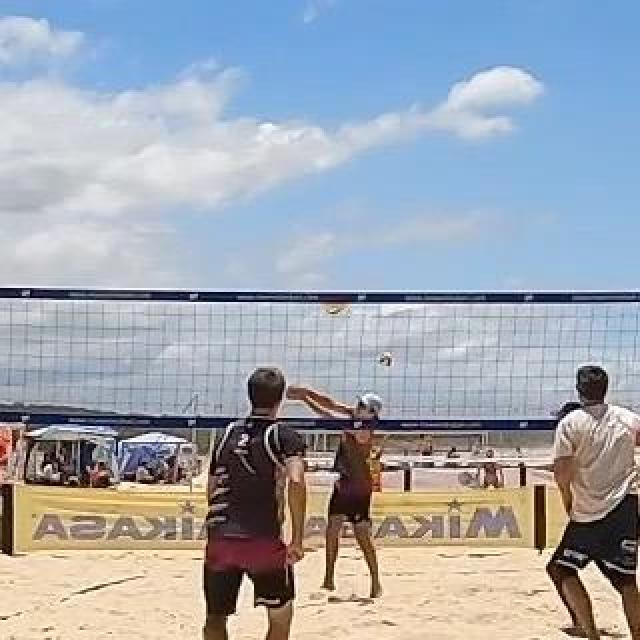volleyball: (323, 290, 347, 314), (379, 352, 395, 368)
